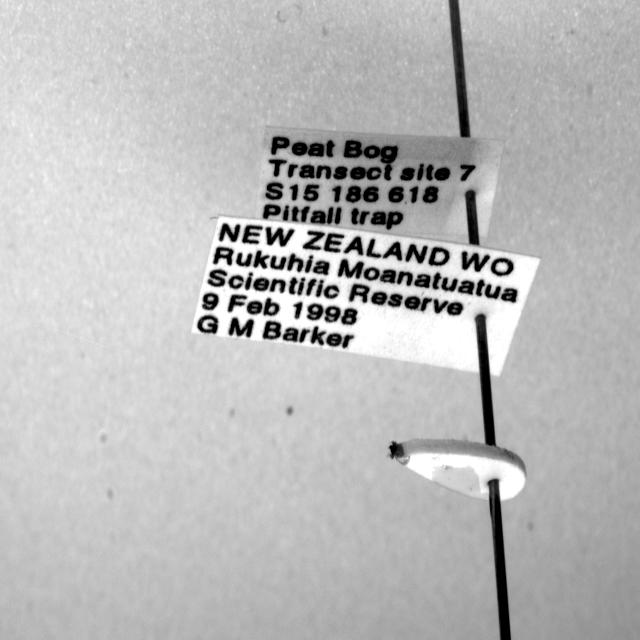typed_label: (192, 216, 540, 375), (255, 126, 504, 236)
